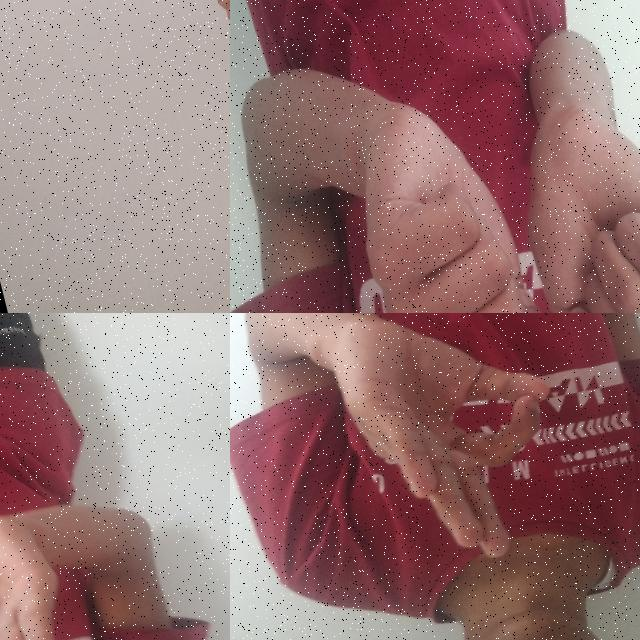Dulya: (321, 62, 575, 313), (493, 62, 640, 313)
Okay: (305, 313, 591, 591), (0, 489, 108, 640)
